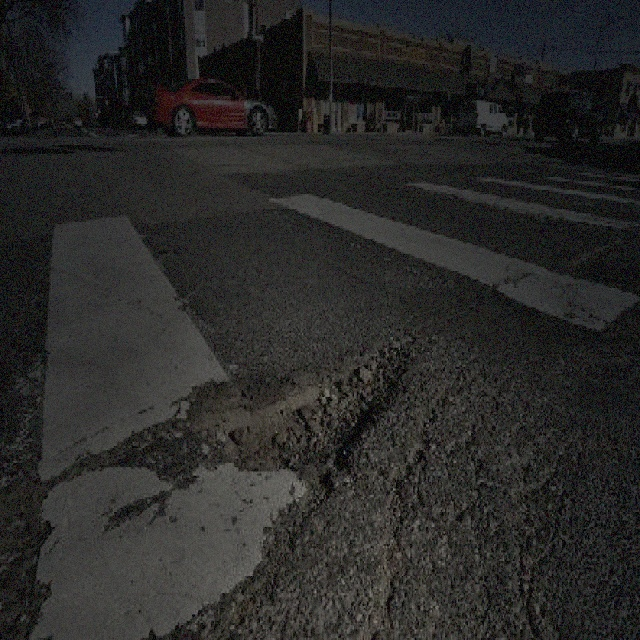pothole: (169, 322, 419, 493)
